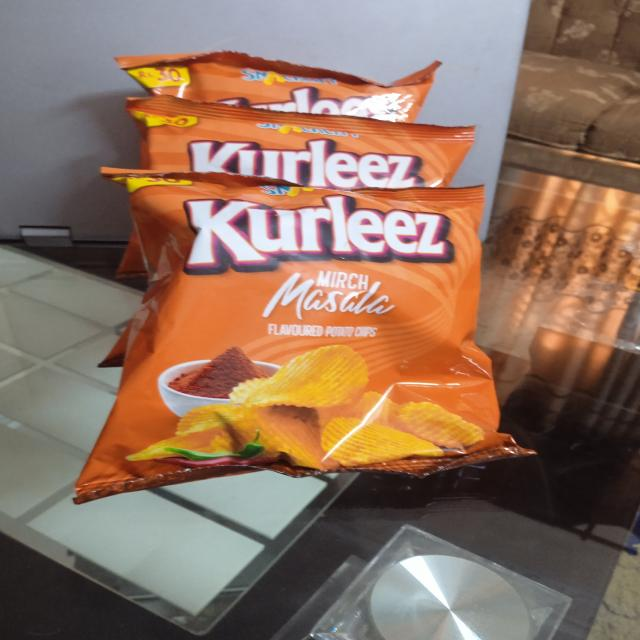Plastic: (63, 158, 536, 504), (117, 90, 500, 172), (116, 46, 454, 109)
